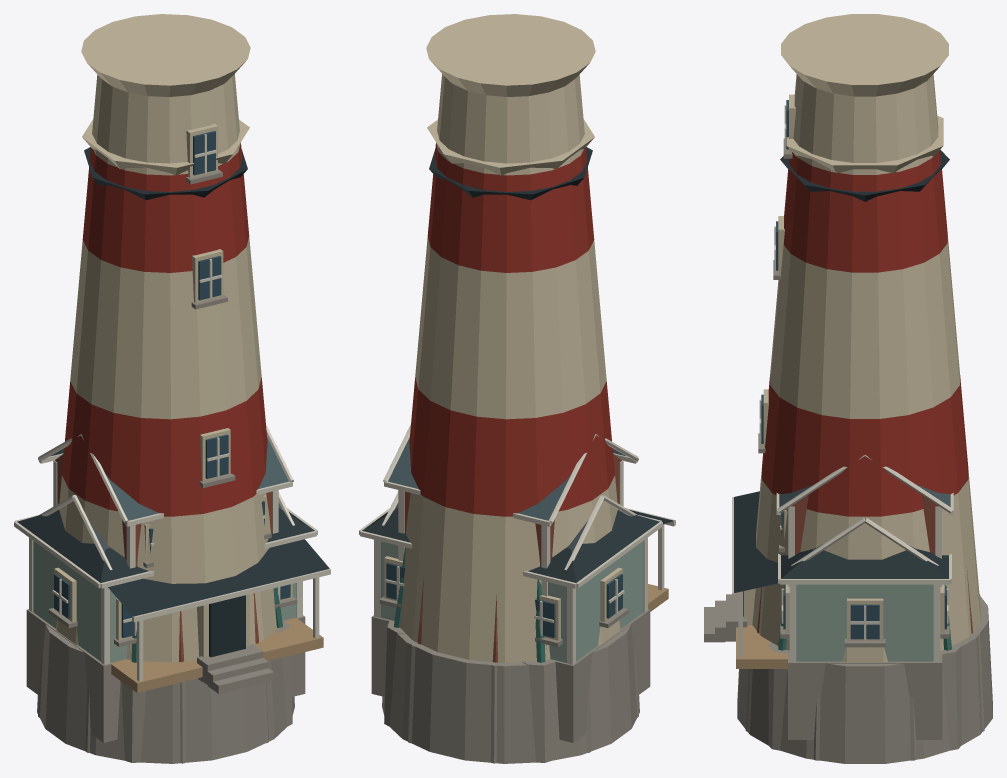
Rendered from lighthouse_kit.glb.
3 views of the same model, side by side, from view 1: azimuth 30°, elevation 25°; view 2: azimuth 150°, elevation 25°; view 3: azimuth 270°, elevation 25° (orthographic).
Parts seen in each view (by area): view 1: DoubleBand, PorchBungalow, BrickQuarters, Brick, Ironwork, KeepersHouse; view 2: DoubleBand, PorchBungalow, BrickQuarters, Ironwork, Brick, KeepersHouse, Timber; view 3: DoubleBand, PorchBungalow, Ironwork, Brick, BrickQuarters, KeepersHouse.
Boxes of the visible parts, <box> form: DoubleBand: <box>37,14,294,763</box>; PorchBungalow: <box>14,508,330,742</box>; BrickQuarters: <box>38,424,293,660</box>; Brick: <box>38,119,268,763</box>; Ironwork: <box>84,147,292,762</box>; KeepersHouse: <box>39,492,294,569</box>; DoubleBand: <box>382,14,639,763</box>; PorchBungalow: <box>359,508,675,742</box>; BrickQuarters: <box>383,424,638,660</box>; Ironwork: <box>384,147,592,762</box>; Brick: <box>407,119,638,763</box>; KeepersHouse: <box>382,491,638,570</box>; Timber: <box>394,547,545,662</box>; DoubleBand: <box>704,14,992,763</box>; PorchBungalow: <box>732,491,951,739</box>; Ironwork: <box>768,150,961,750</box>; Brick: <box>711,116,984,760</box>; BrickQuarters: <box>776,455,953,640</box>; KeepersHouse: <box>791,517,938,565</box>.
Bounding box in the file's own units: 8.42 × 24 × 9.51.
